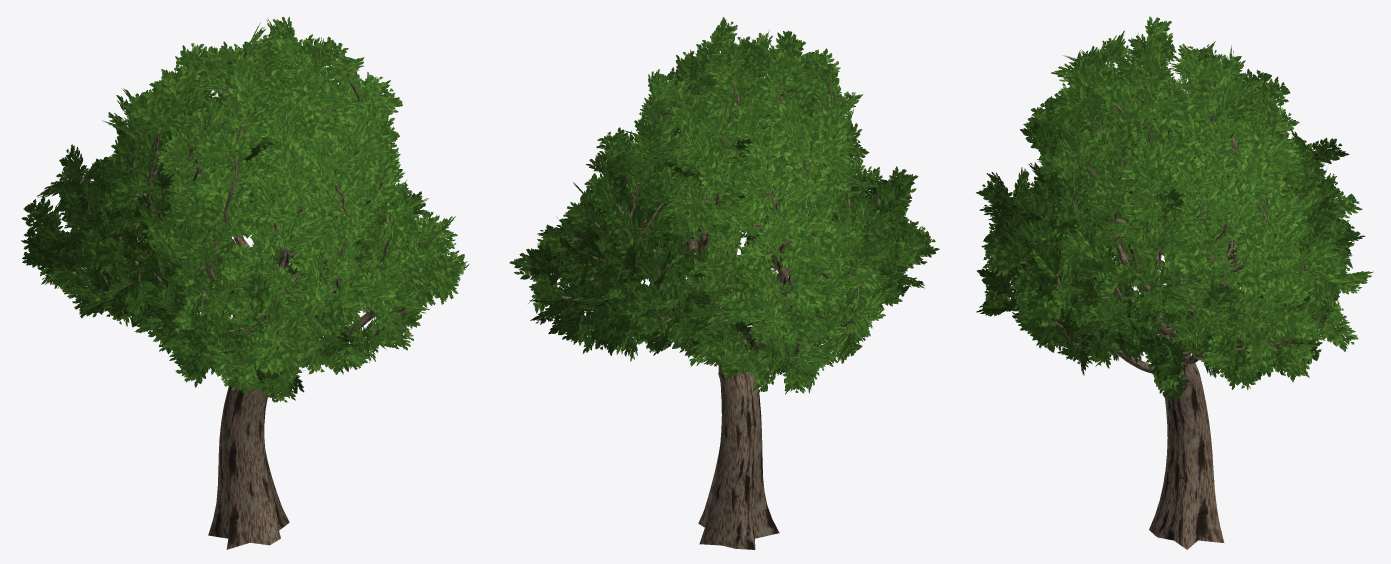
The model's file is oak_03.glb.
3 renders of one model, left to right at view 1: azimuth 30°, elevation 25°; view 2: azimuth 150°, elevation 25°; view 3: azimuth 270°, elevation 25°, orthographic. The views are drawn at different scales.
Visible parts, largest first — view 1: oak_03; view 2: oak_03; view 3: oak_03.
Part boxes in pixels (x1,y1,x2,y2): oak_03: [21, 16, 469, 549]; oak_03: [509, 17, 939, 549]; oak_03: [976, 16, 1373, 549].
Bounding box in the file's own units: 5.85 × 8.09 × 5.94.
2 materials, 2 textured.
